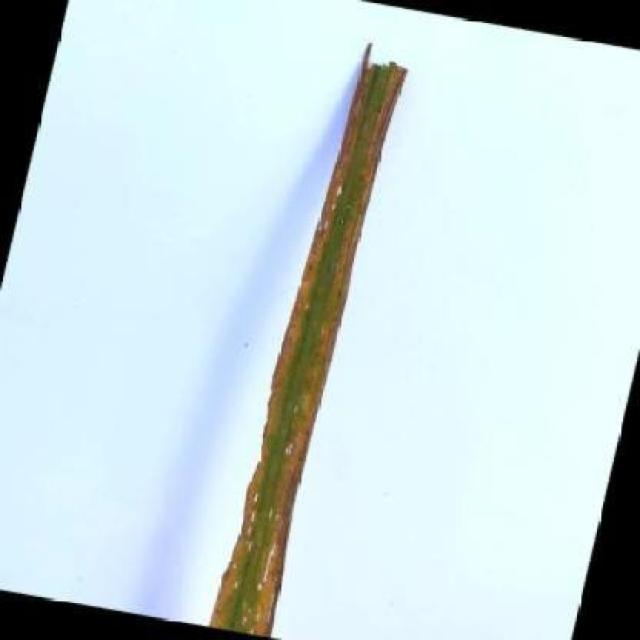Rice False Smut: (210, 45, 407, 636)
